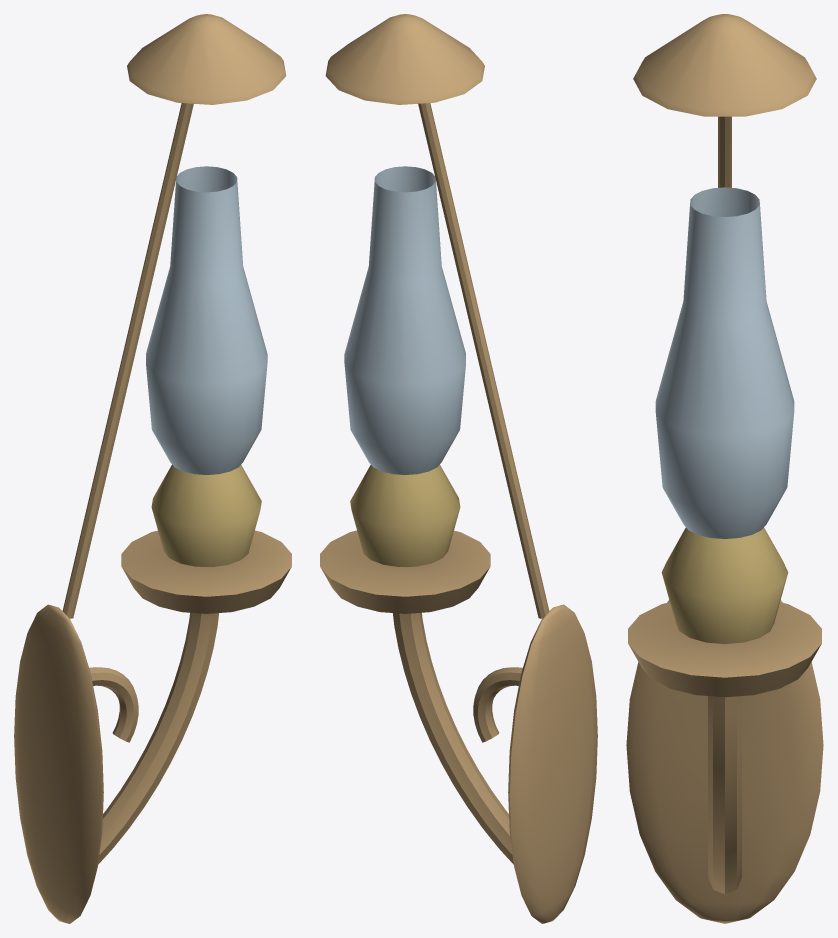
File: obj_kit_sconce.glb
3 renders of one model, left to right at view 1: azimuth 30°, elevation 25°; view 2: azimuth 150°, elevation 25°; view 3: azimuth 270°, elevation 25°, orthographic. The views are drawn at different scales.
Visible parts, largest first — view 1: chim, Sphere, Cone, pan, font, arm, hang, scroll; view 2: chim, Sphere, Cone, pan, font, arm, hang, scroll; view 3: chim, Sphere, Cone, pan, font, arm, hang.
Part boxes in pixels (x1,y1,x2,y2): chim: (146, 166, 267, 474); Sphere: (14, 604, 103, 923); Cone: (127, 14, 286, 104); pan: (121, 530, 291, 613); font: (151, 464, 261, 566); arm: (98, 612, 218, 864); hang: (62, 103, 193, 618); scroll: (89, 667, 138, 742); chim: (344, 166, 465, 474); Sphere: (508, 604, 597, 923); Cone: (325, 14, 484, 104); pan: (320, 530, 490, 613); font: (350, 464, 460, 566); arm: (393, 612, 513, 864); hang: (418, 103, 549, 618); scroll: (473, 667, 522, 742); chim: (655, 187, 794, 538); Sphere: (626, 600, 823, 923); Cone: (633, 14, 816, 116); pan: (628, 602, 821, 697); font: (661, 527, 788, 643); arm: (708, 696, 741, 894); hang: (718, 116, 731, 187).
Bounding box in the file's own units: 0.22 × 0.775 × 0.14.
